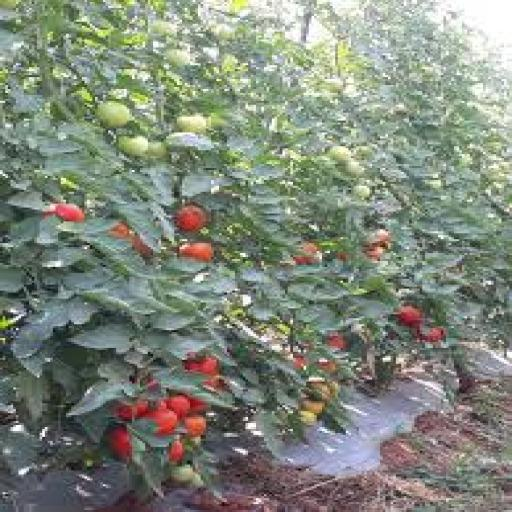tomato: (143, 410, 179, 436), (98, 101, 131, 128), (175, 206, 208, 231), (109, 427, 131, 460), (45, 204, 84, 221), (180, 242, 213, 262), (185, 356, 219, 375), (117, 400, 147, 421), (293, 242, 321, 264), (177, 115, 208, 134), (119, 137, 150, 156), (167, 396, 192, 419), (396, 307, 422, 328), (164, 50, 192, 67), (183, 416, 205, 436), (172, 465, 195, 484), (132, 236, 153, 256), (146, 141, 168, 160), (367, 230, 390, 247), (328, 147, 351, 164), (151, 20, 176, 35), (109, 222, 131, 239), (423, 327, 446, 343), (301, 400, 324, 415), (169, 439, 184, 462), (328, 333, 348, 349), (365, 246, 385, 260), (354, 184, 372, 199), (191, 398, 208, 413), (299, 412, 316, 426), (0, 0, 21, 9), (293, 356, 306, 369)
